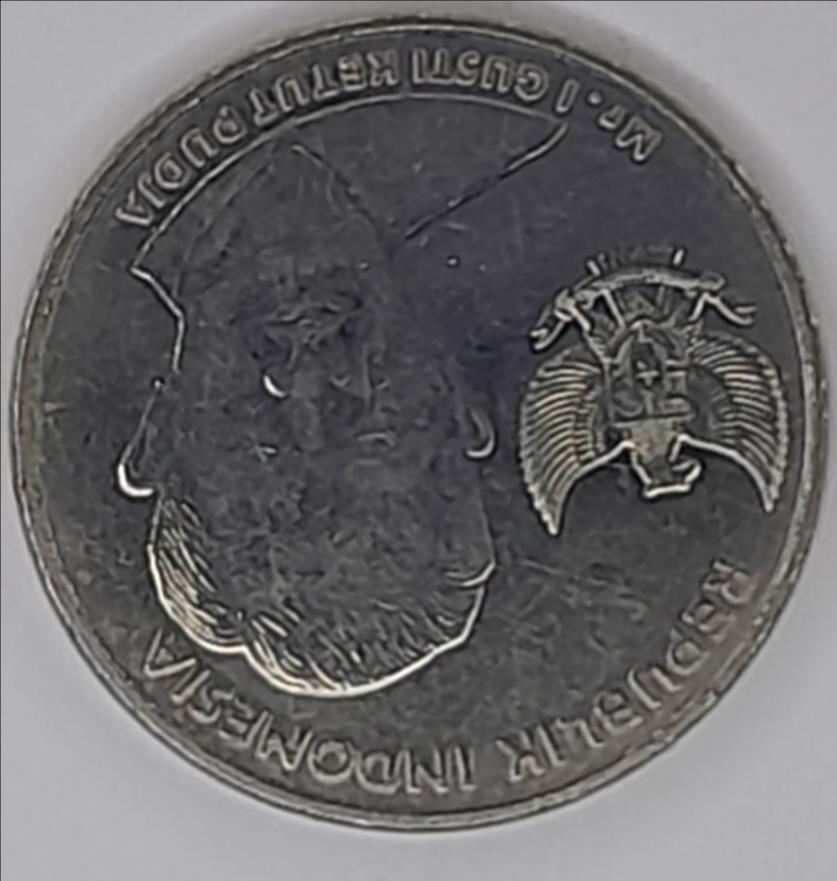coin_1000_e2016: (14, 17, 826, 881)
